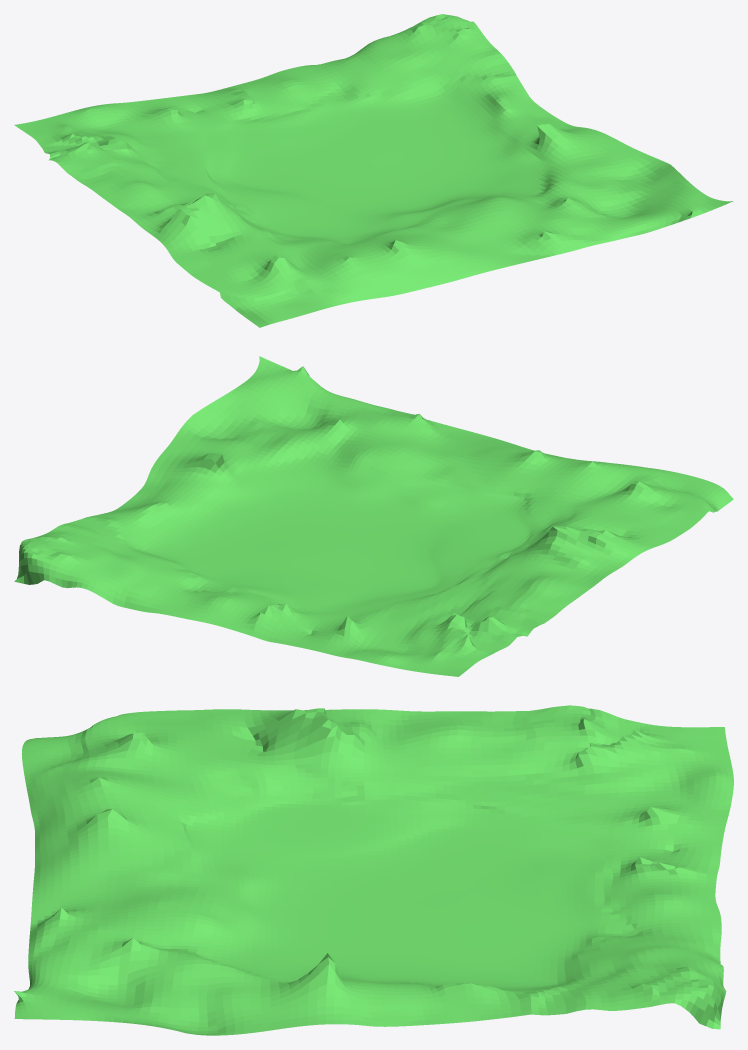
File: Terrain.glb
3 renders of one model, top to bottom at view 1: azimuth 30°, elevation 25°; view 2: azimuth 150°, elevation 25°; view 3: azimuth 270°, elevation 25°, orthographic. The views are drawn at different scales.
Parts seen in each view (by area): view 1: Plane; view 2: Plane; view 3: Plane.
Boxes of the visible parts, x1,y1,x2,y2 form: Plane: (14, 14, 733, 327); Plane: (14, 356, 733, 676); Plane: (14, 705, 733, 1035).
Size of the model in its own units: 109 by 9.7 by 105.
